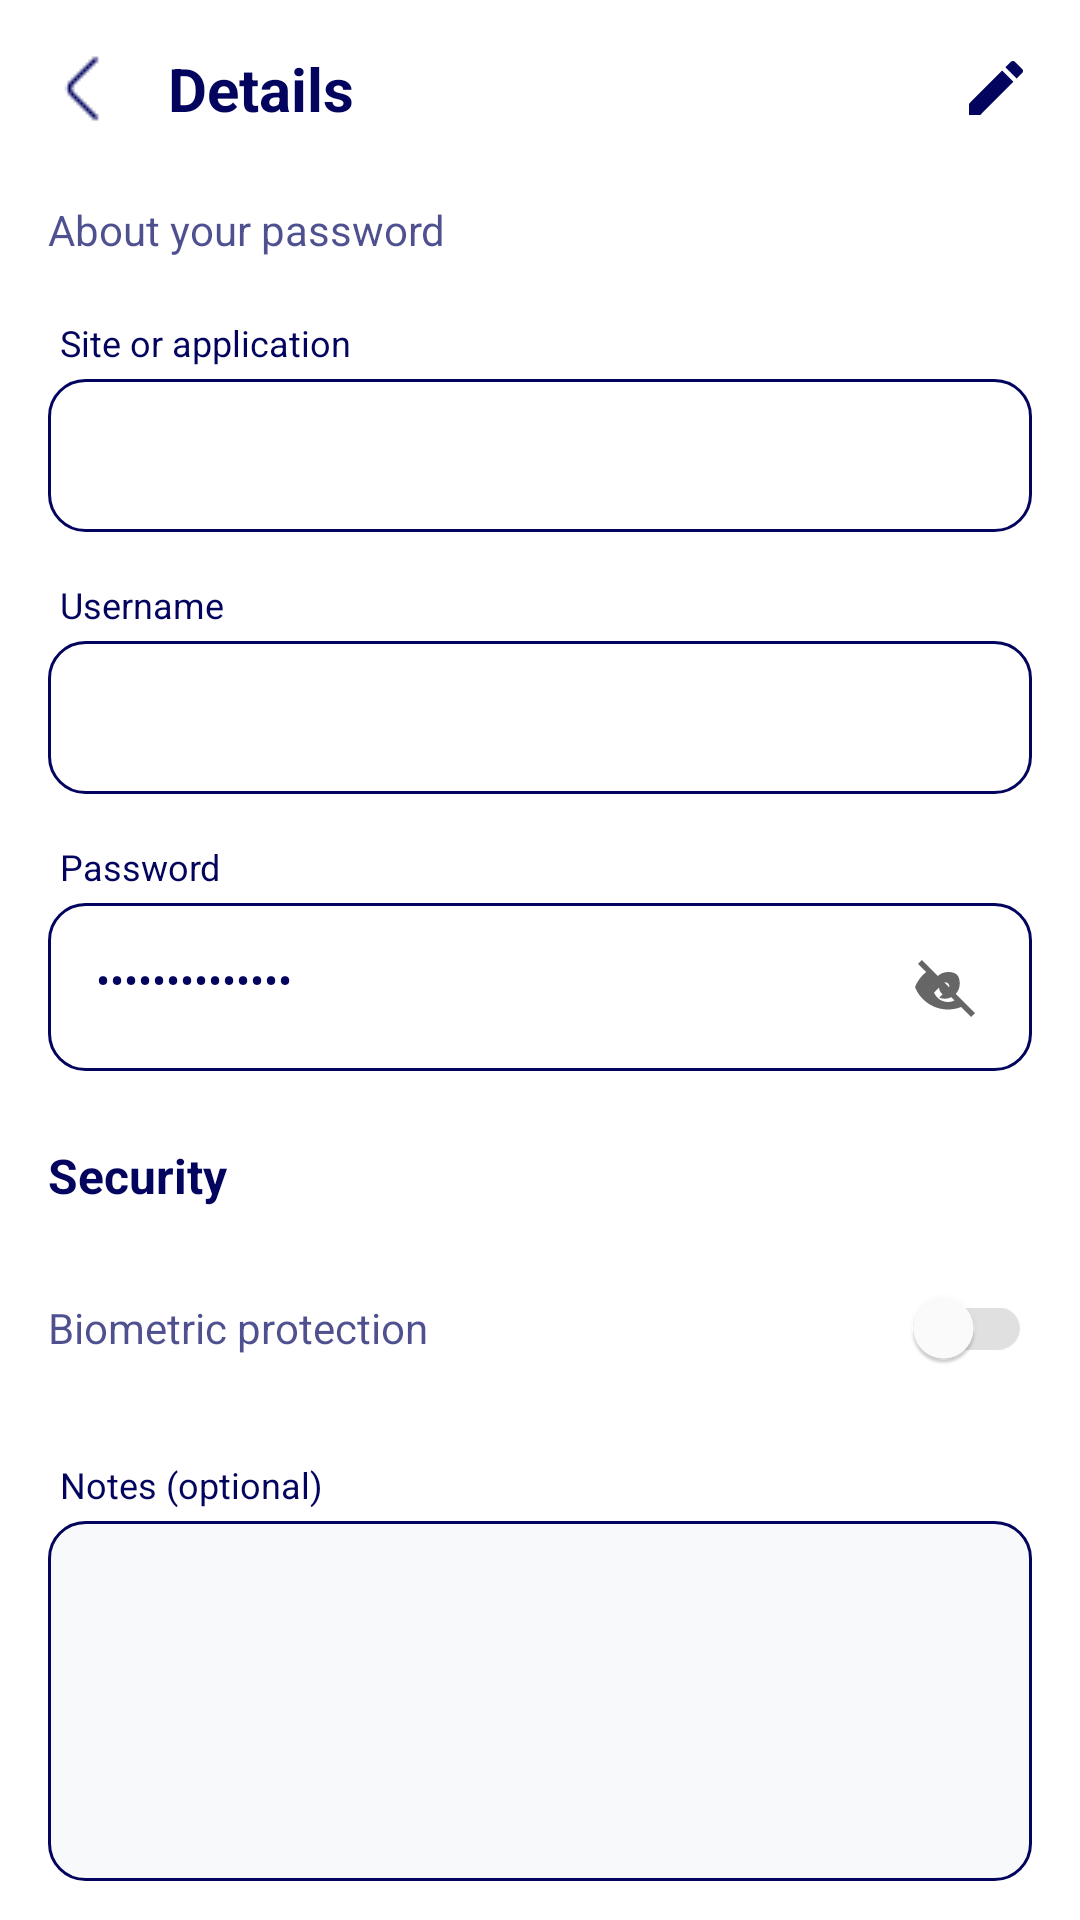

Where icons sit on this 1080px×1920px app screen, as Rect(x1, y1, x2, y2):
Back: Rect(65, 56, 99, 121)
Edit: Rect(969, 61, 1023, 115)
Toggle password visibility: Rect(915, 960, 975, 1017)
